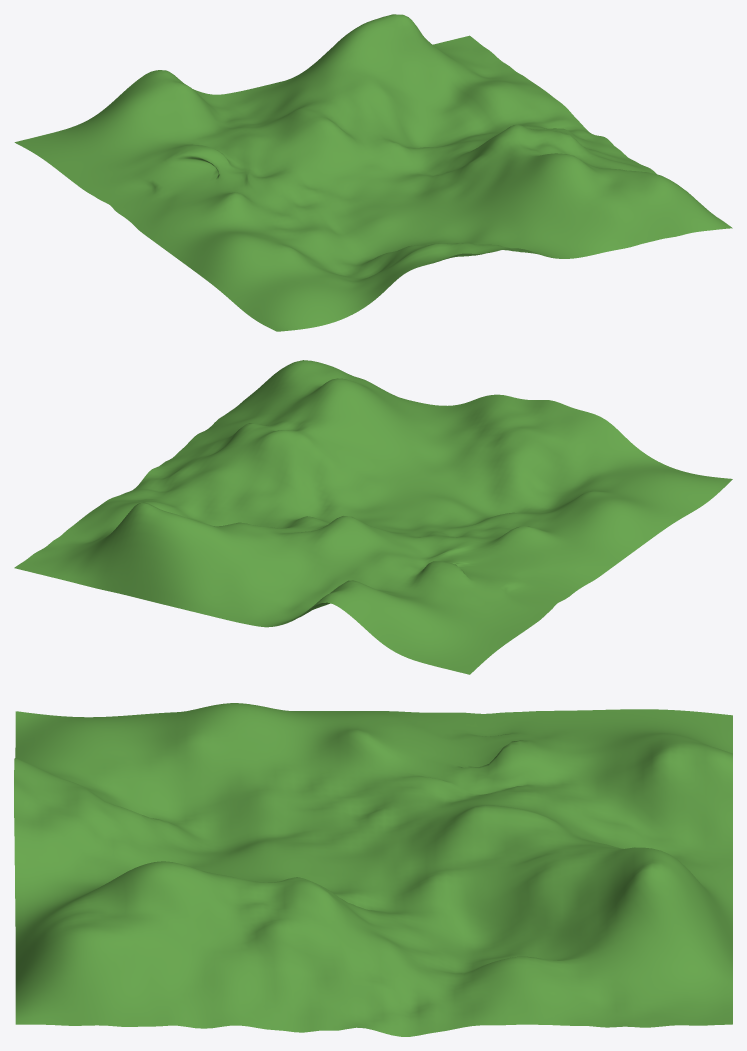
File: Mountains.gltf
3 views of the same model, one above another, from view 1: azimuth 30°, elevation 25°; view 2: azimuth 150°, elevation 25°; view 3: azimuth 270°, elevation 25° (orthographic). The views are drawn at different scales.
Parts seen in each view (by area): view 1: Grid, Grid.001; view 2: Grid, Grid.001; view 3: Grid.001, Grid.
Part boxes in pixels (box(x1,y1,x2,y2)): Grid: box(14, 14, 657, 331); Grid.001: box(133, 14, 732, 331); Grid: box(14, 362, 732, 674); Grid.001: box(14, 360, 732, 626); Grid.001: box(14, 706, 732, 1036); Grid: box(14, 703, 732, 1031).
Bounding box in the file's own units: 2 × 0.3349 × 2.01.
